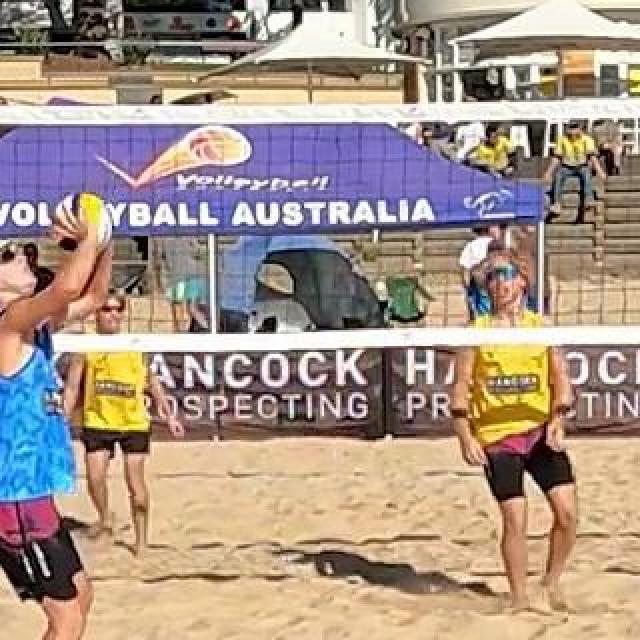volleyball: (55, 192, 111, 254)
